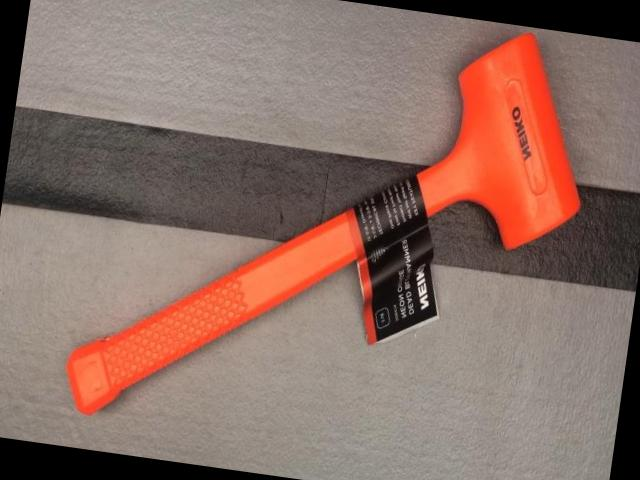hammer: (59, 0, 604, 479)
